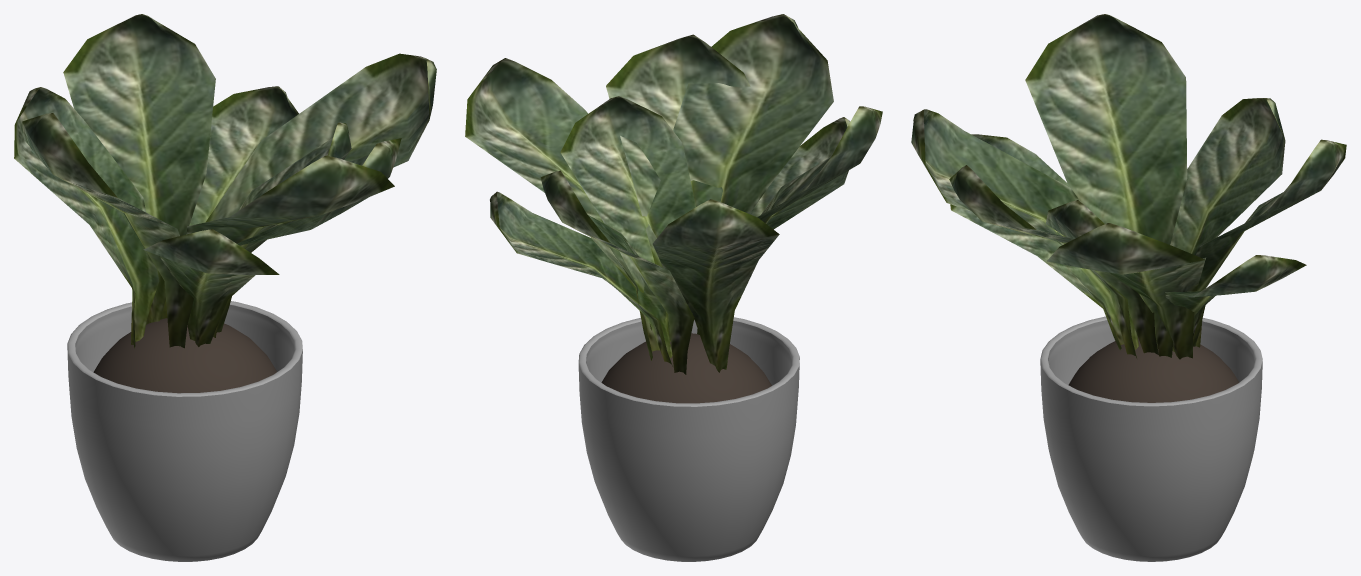
Rendered from oxface4.obj.
3 views of the same model, side by side, from view 1: azimuth 30°, elevation 25°; view 2: azimuth 150°, elevation 25°; view 3: azimuth 270°, elevation 25° (orthographic). The views are drawn at different scales.
Visible parts, largest first — view 1: Egg_pot_default; view 2: Egg_pot_default; view 3: Egg_pot_default.
Part boxes in pixels (x1,y1,x2,y2): Egg_pot_default: (14, 14, 436, 561); Egg_pot_default: (465, 14, 882, 561); Egg_pot_default: (911, 14, 1346, 561).
Bounding box in the file's own units: 50.57 × 57.05 × 50.42.
